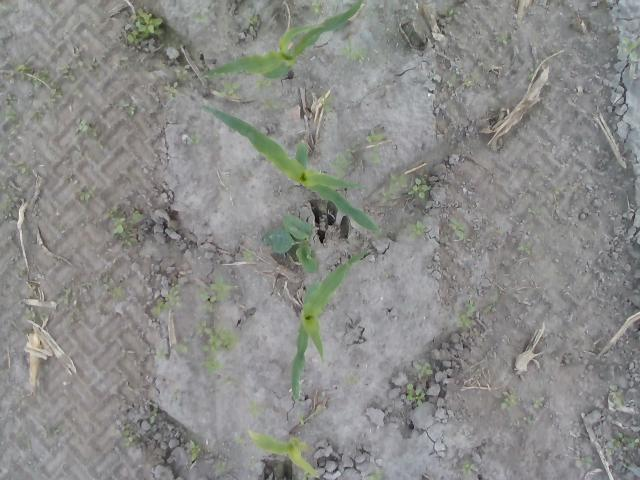Maize: (200, 101, 380, 234), (200, 0, 368, 83), (290, 249, 370, 402), (247, 424, 318, 477)
Weeds: (262, 210, 318, 274), (195, 317, 240, 374), (124, 8, 166, 46), (63, 59, 100, 98), (110, 206, 144, 247), (383, 173, 432, 201), (198, 274, 234, 312), (149, 276, 180, 318), (58, 284, 80, 322), (164, 70, 188, 104), (328, 149, 356, 177), (16, 63, 48, 86), (456, 298, 477, 332), (616, 35, 640, 59), (609, 431, 640, 449), (102, 276, 126, 299), (342, 45, 370, 64), (216, 78, 242, 98), (45, 80, 66, 104), (406, 383, 426, 408), (447, 215, 465, 240), (245, 398, 265, 420), (500, 388, 520, 408), (609, 382, 625, 407), (23, 306, 48, 322), (0, 199, 17, 221), (78, 120, 98, 138), (406, 222, 424, 241), (462, 69, 480, 88), (414, 360, 434, 377), (189, 439, 202, 462), (173, 340, 193, 354), (263, 97, 281, 112), (321, 94, 336, 112), (121, 423, 131, 449), (255, 79, 272, 93), (122, 102, 136, 118), (310, 0, 323, 17), (0, 110, 18, 122), (246, 15, 258, 33), (367, 130, 385, 142), (445, 70, 457, 88), (366, 469, 385, 480), (496, 32, 512, 45), (527, 206, 545, 217), (240, 250, 256, 262), (14, 262, 26, 278), (16, 162, 33, 173), (78, 190, 96, 200), (48, 424, 66, 434), (517, 241, 530, 254), (10, 122, 22, 136), (192, 15, 210, 24), (4, 94, 14, 110), (524, 415, 534, 431), (235, 432, 245, 448), (48, 256, 64, 266), (26, 111, 40, 122), (441, 6, 456, 16), (368, 153, 381, 164), (214, 463, 227, 474), (344, 376, 360, 384), (96, 144, 112, 152), (484, 304, 496, 314), (464, 464, 476, 474), (80, 281, 95, 289), (0, 4, 16, 11), (582, 456, 593, 466), (1, 182, 12, 192), (158, 350, 170, 359), (6, 71, 16, 81), (120, 55, 129, 66), (554, 185, 566, 193), (0, 144, 6, 160), (152, 405, 160, 417), (190, 135, 200, 144), (534, 400, 544, 408), (297, 414, 305, 424), (528, 72, 534, 81)
